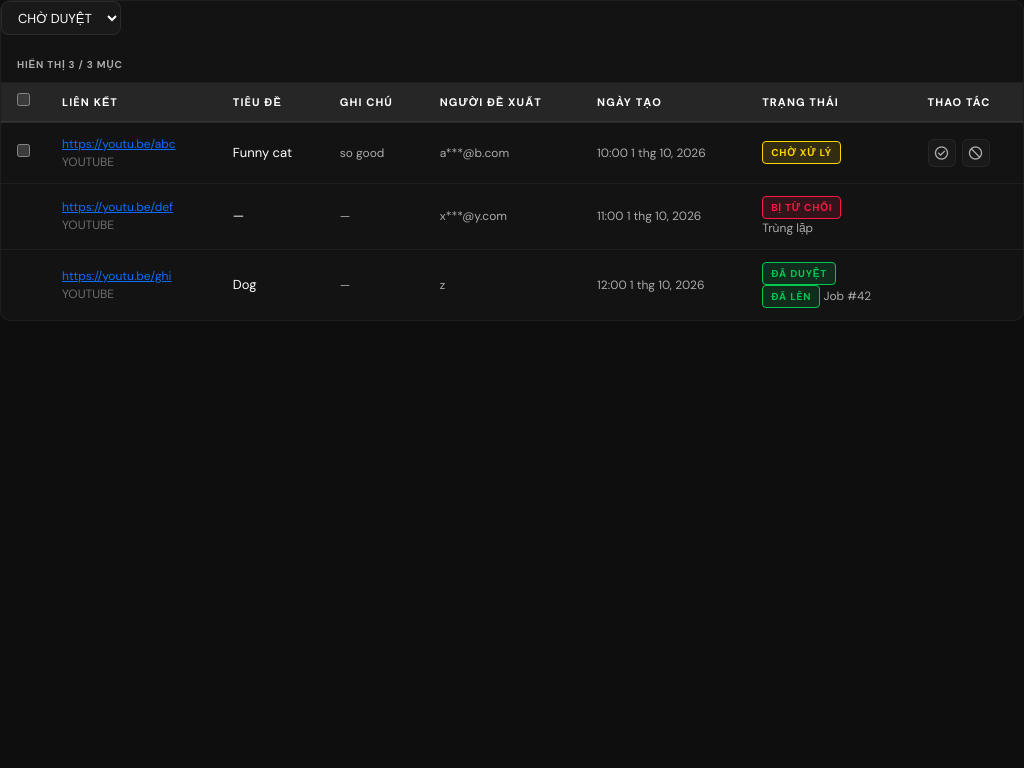
Test: AdminSuggestionTable › approve sends the edited title override
Expected: the text "Funny cat" is shown, [217,122,324,183]
Click the button named "Duyệt" at (942, 152), box [928,138,956,166]
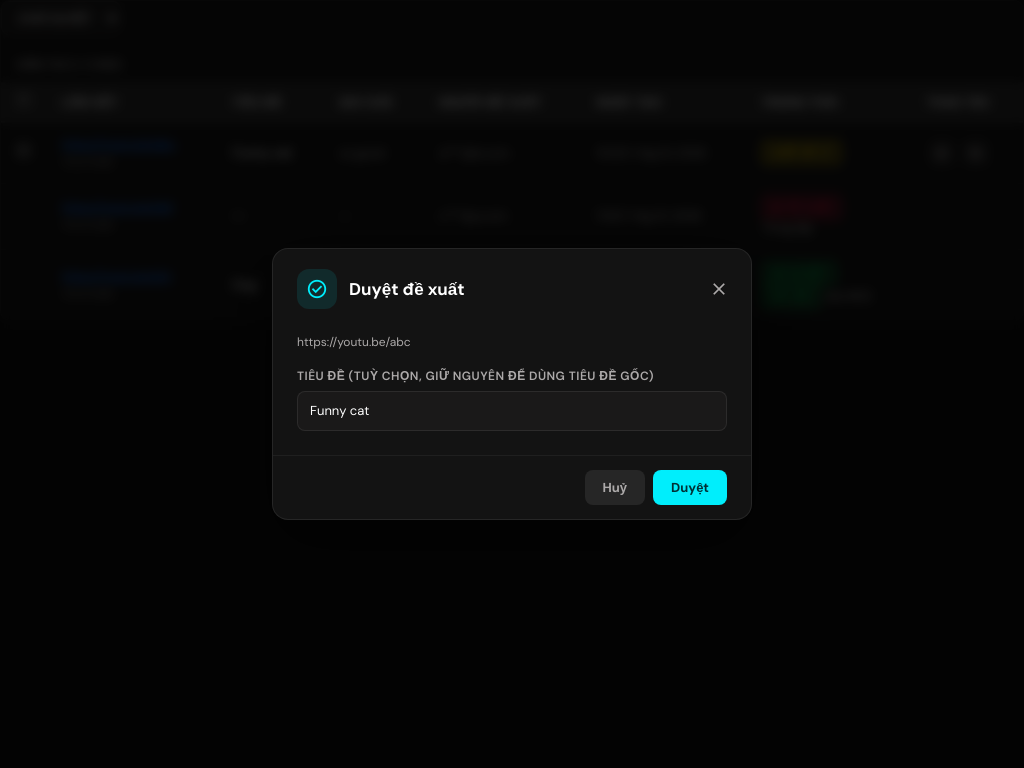
Result: the field labelled "Tiêu đề (tuỳ chọn, giữ nguyên để dùng tiêu đề gốc)" holds "Funny cat"
Replace the text in the field labelled "Tiêu đề (tuỳ chọn, giữ nguyên để dùng tiêu đề gốc)" with "Better title" at (512, 411), box [297,391,727,430]
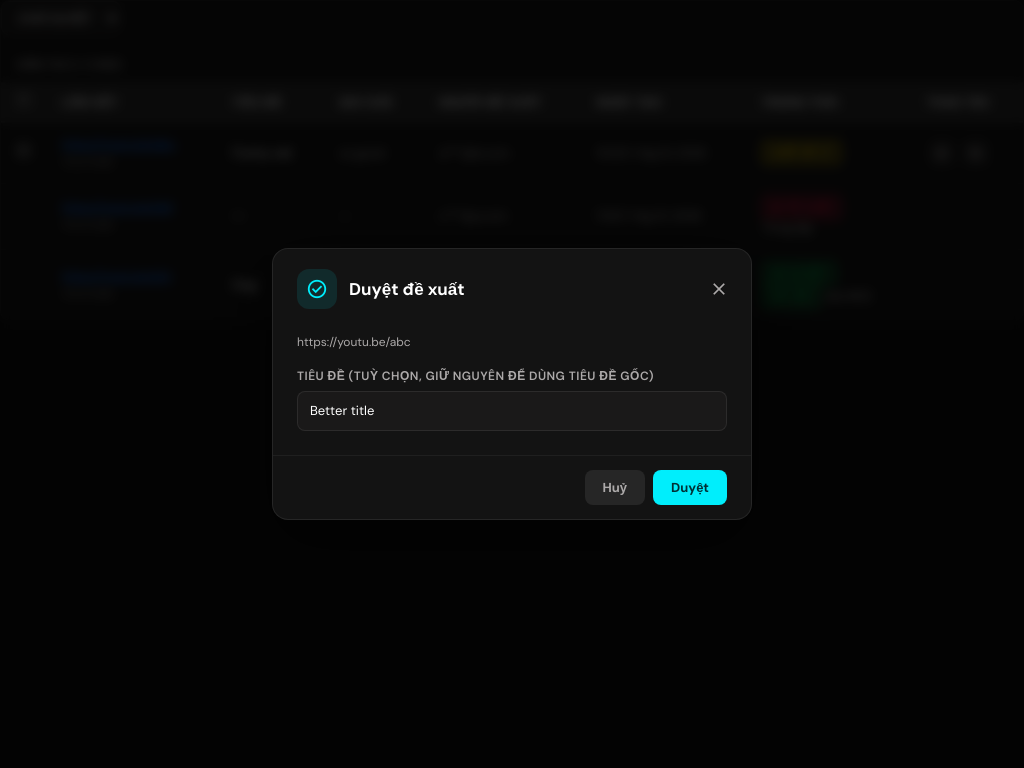
Click the button "Duyệt" at (690, 487), box [653,470,727,505]
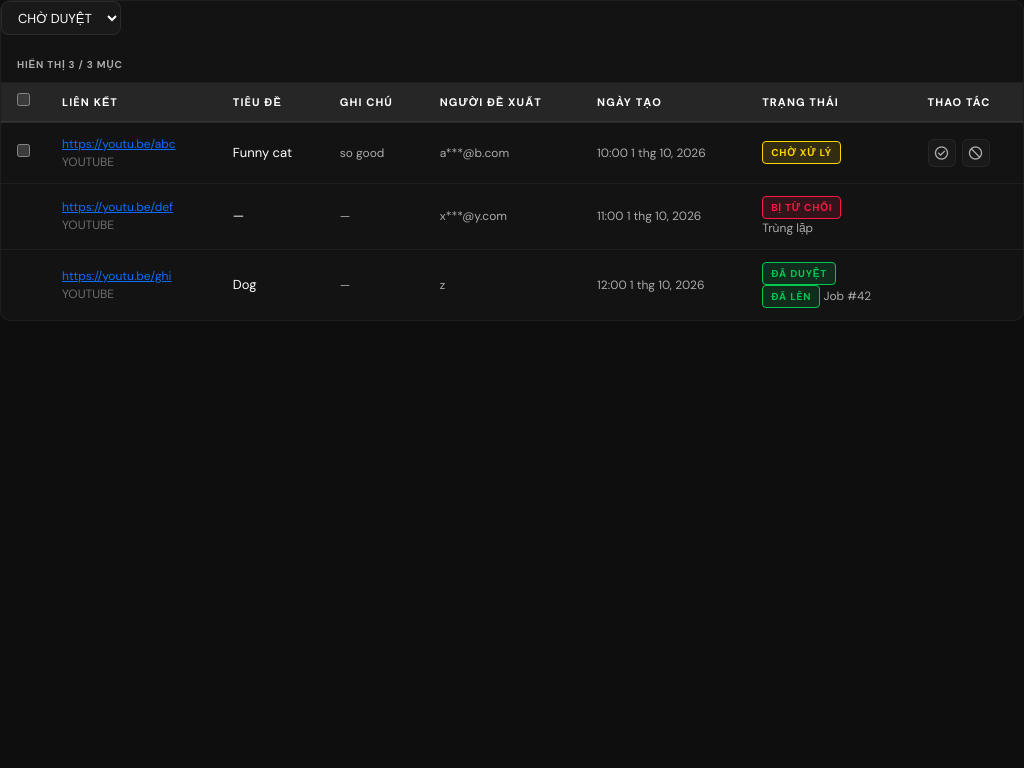
Result: the dialog is gone
